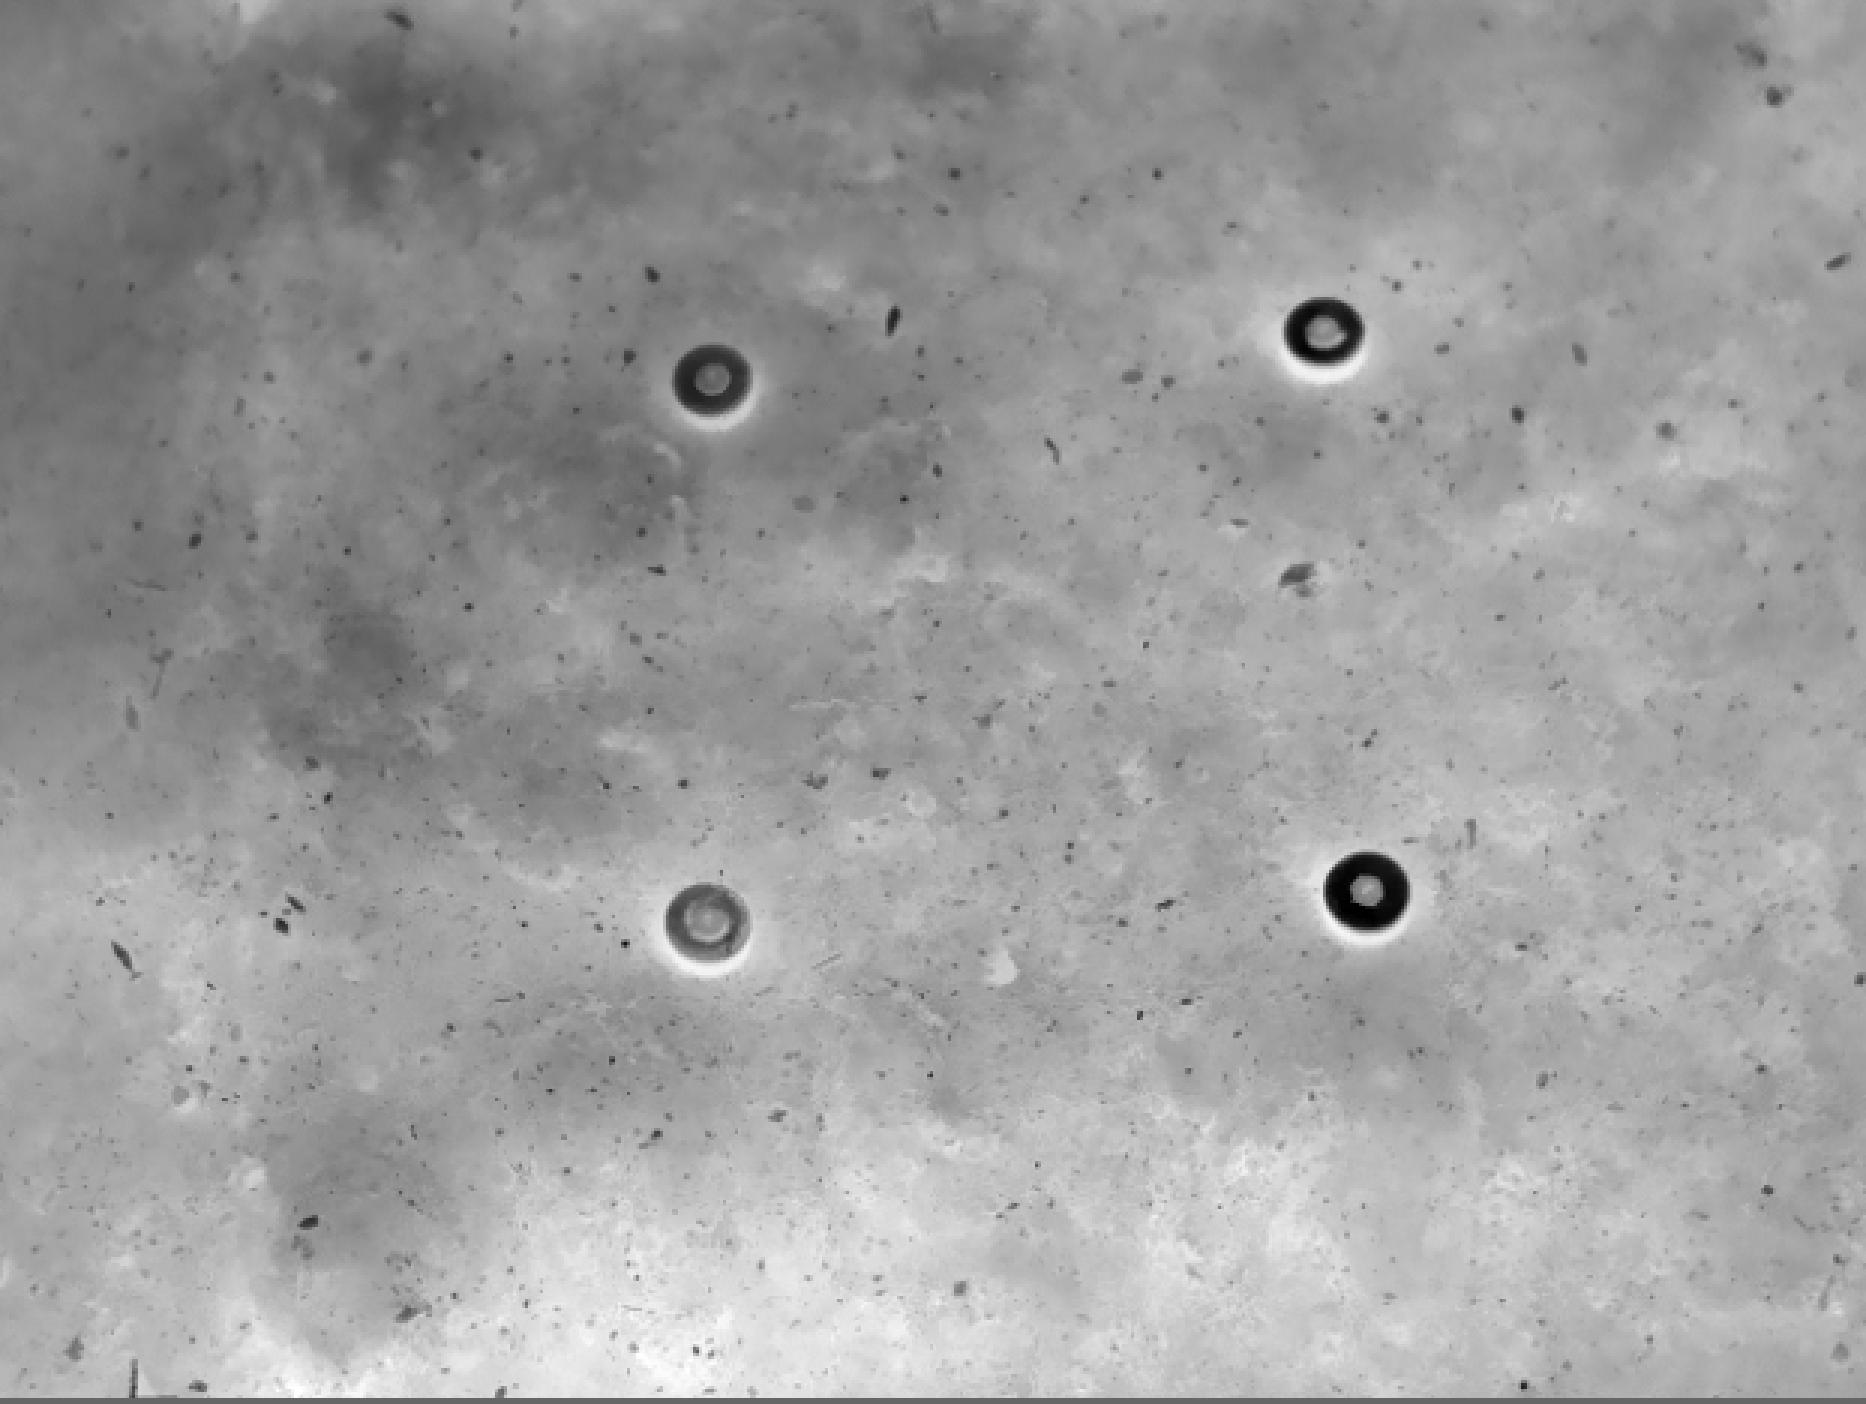mines-gjV8: (1328, 845, 1419, 962), (658, 861, 746, 981), (1285, 295, 1384, 395), (668, 342, 771, 432)
